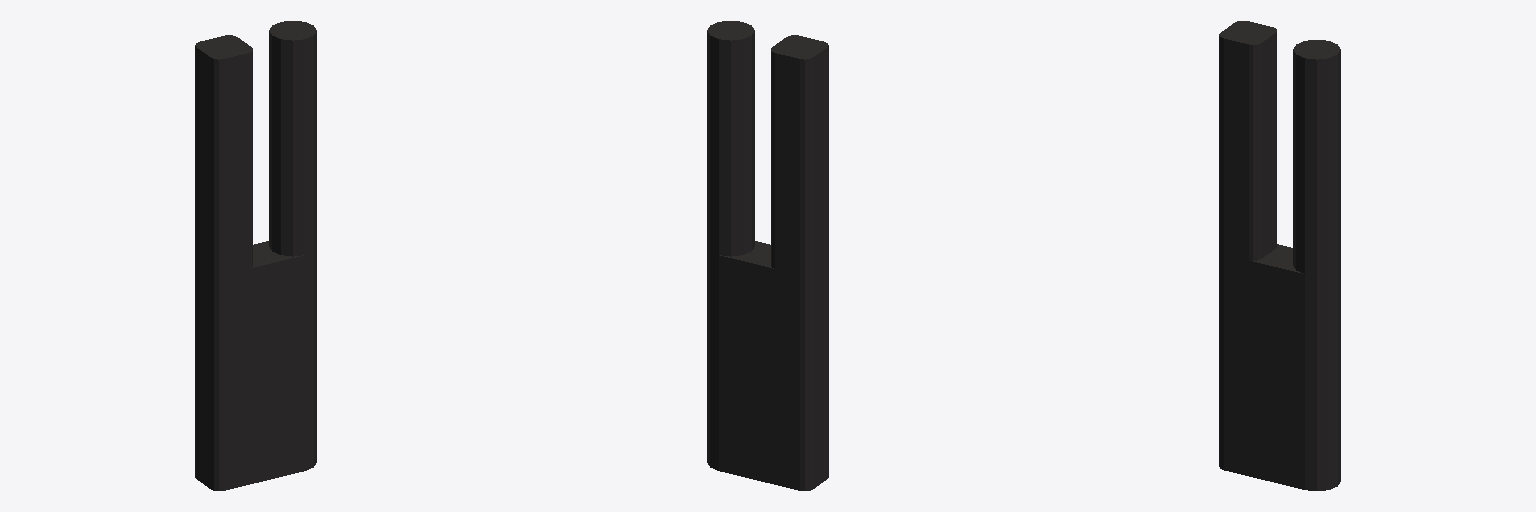
URDF robot description (Small_Long_SquareCircle_Yellow):
<?xml version="1.0"?>
<robot name="Small_Long_SquareCircle_Yellow">
    <link name="Small_Long_SquareCircle_Yellow">
        <visual>
            <geometry>
                <mesh filename="../mesh/factory_insertion/Small_Long_SquareCircle_Yellow.obj" scale="0.001 0.001 0.001"/>
            </geometry>
            <material name="Yellow">
              <color rgba="0.22 0.21 0.21 0.0"/>
            </material>
        </visual>
        <collision>
            <geometry>
                <mesh filename="../mesh/factory_insertion/Small_Long_SquareCircle_Yellow.obj" scale="0.001 0.001 0.001"/>
            </geometry>
            <sdf resolution="512"/>
        </collision>
    </link>
</robot>

--- Facts derived from the render (not from the file) ---
Views: 3 orthographic renders of the robot side by side, from view 1: azimuth 30°, elevation 25°; view 2: azimuth 150°, elevation 25°; view 3: azimuth 330°, elevation 25°.
Robot: Small_Long_SquareCircle_Yellow — 1 links, 0 joints (none); root link Small_Long_SquareCircle_Yellow; default pose: every joint at zero.
Visible links, largest first — view 1: Small_Long_SquareCircle_Yellow; view 2: Small_Long_SquareCircle_Yellow; view 3: Small_Long_SquareCircle_Yellow.
Boxes of the visible links, x1,y1,x2,y2 form: Small_Long_SquareCircle_Yellow: (195,21,316,490); Small_Long_SquareCircle_Yellow: (707,21,828,490); Small_Long_SquareCircle_Yellow: (1219,21,1340,490).
Size in the robot's own frame: 0.04 by 0.015 by 0.15 metres.
Meshes: 1 distinct files referenced, 1 mesh visuals loaded (1 OBJ).
